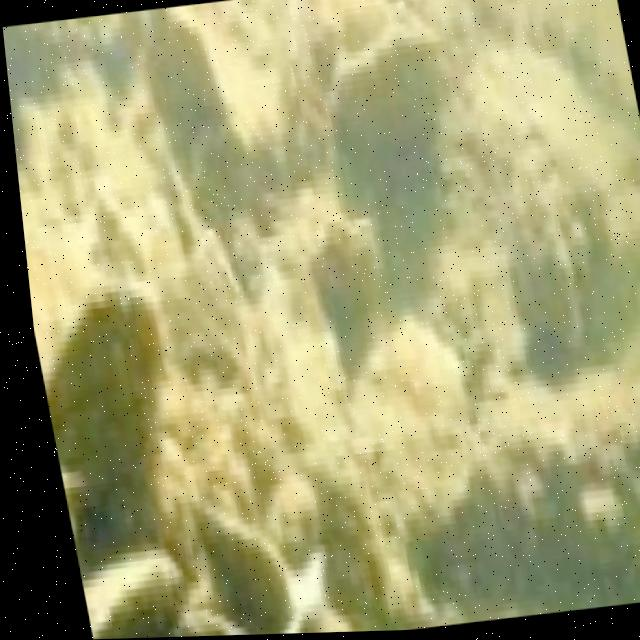Oyster-Indeterminate: (42, 284, 164, 567), (328, 35, 444, 183), (83, 550, 185, 639)
Oyster-Open: (180, 523, 294, 637)
